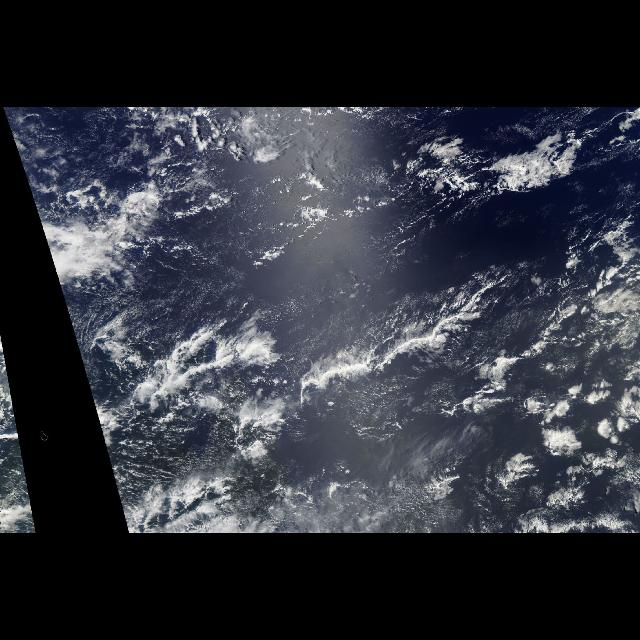Fish: (110, 219, 638, 449)
Flower: (456, 229, 640, 511)
